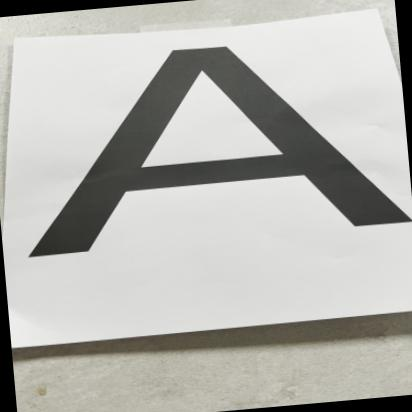seat: (0, 21, 412, 332)
